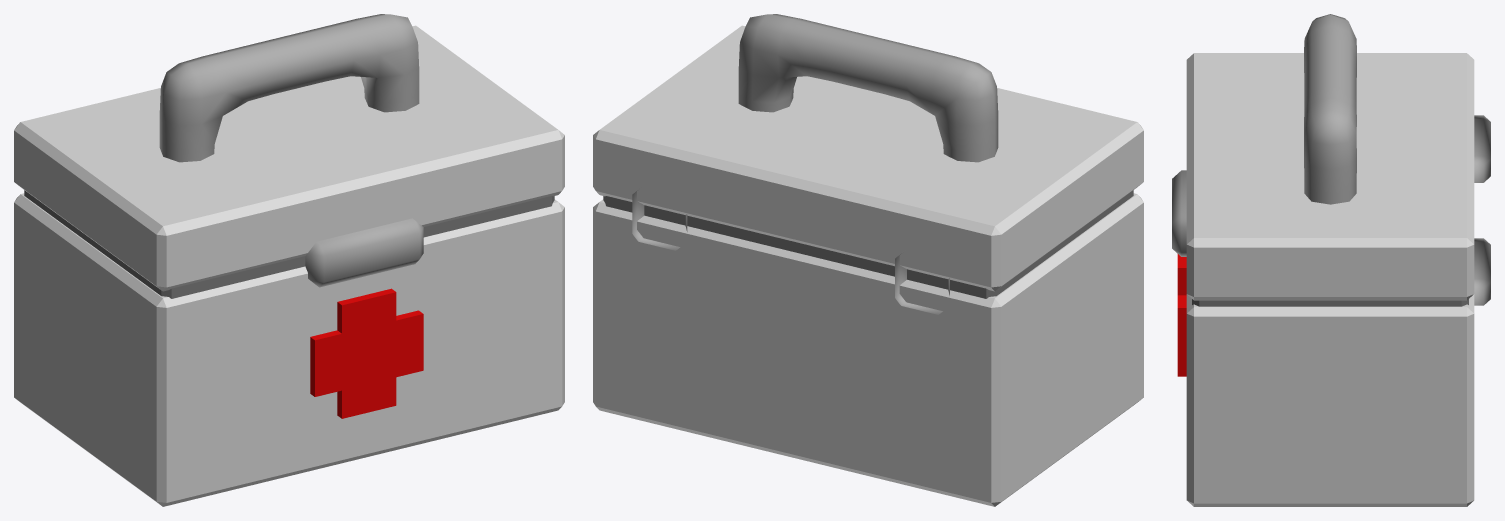
The model's file is medkit_01.glb.
3 views of the same model, side by side, from view 1: azimuth 30°, elevation 25°; view 2: azimuth 150°, elevation 25°; view 3: azimuth 270°, elevation 25° (orthographic). The views are drawn at different scales.
Visible parts, largest first — view 1: Medkit; view 2: Medkit; view 3: Medkit.
Part boxes in pixels (x1=…): Medkit: x1=14, y1=14, x2=564, y2=506; Medkit: x1=593, y1=14, x2=1143, y2=506; Medkit: x1=1172, y1=14, x2=1490, y2=506.
Bounding box in the file's own units: 0.345 × 0.2975 × 0.2434.
